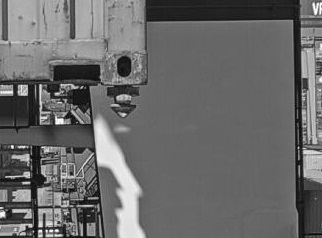Copy of twist_lock_2: (102, 77, 147, 123)
